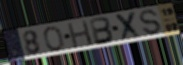8: (22, 30, 43, 57)
B: (89, 16, 116, 46)
H: (66, 19, 95, 50)
O: (42, 26, 66, 52)
S: (138, 9, 163, 36)
X: (115, 10, 144, 43)
